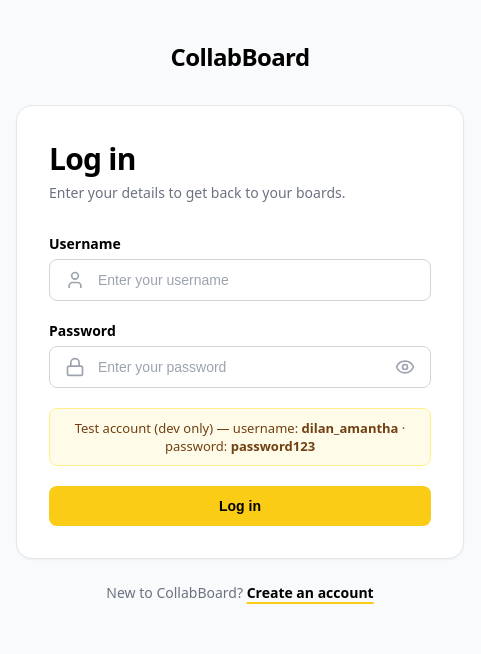
it: LoginForm › shows the server's own message when the credentials are refused
Type "dilan_amantha" into the field labelled "Username".
click(240, 280); type("dilan_amantha")  # box [49, 259, 431, 301]
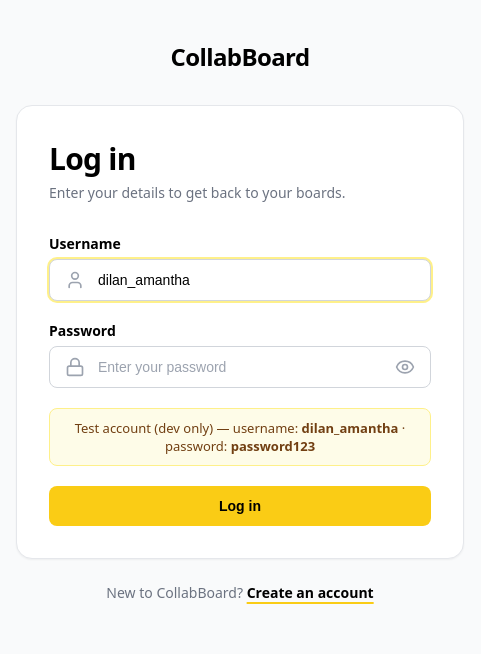
Type "wrong-password" into the password field labelled "Password".
click(240, 367); type("wrong-password")  # box [49, 346, 431, 388]
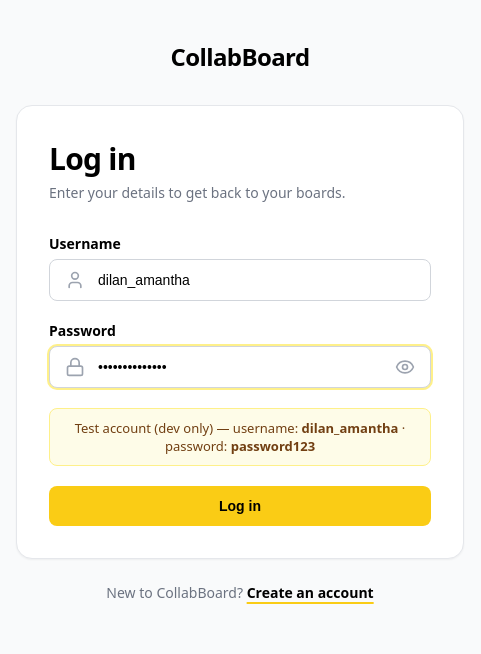
Click the button "Log in".
click(240, 506)  # box [49, 486, 431, 526]
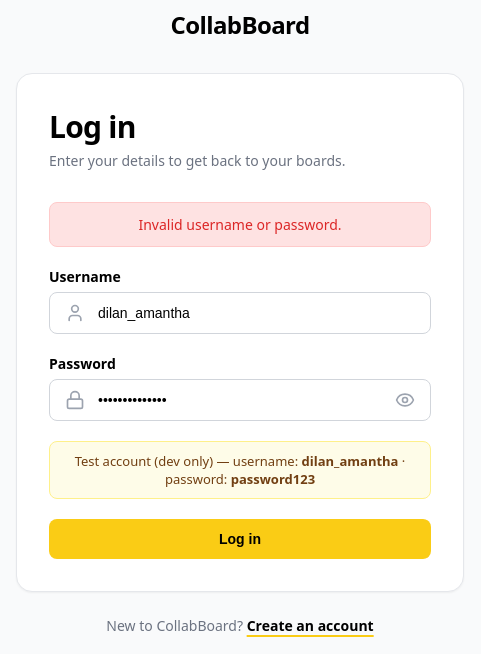
Expected: the text "Invalid username or password." is shown, [49, 202, 431, 246]
